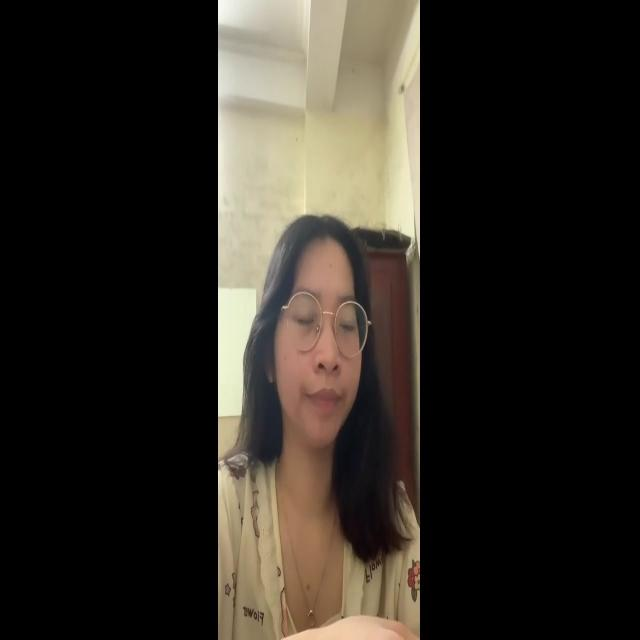student: (238, 189, 409, 639)
